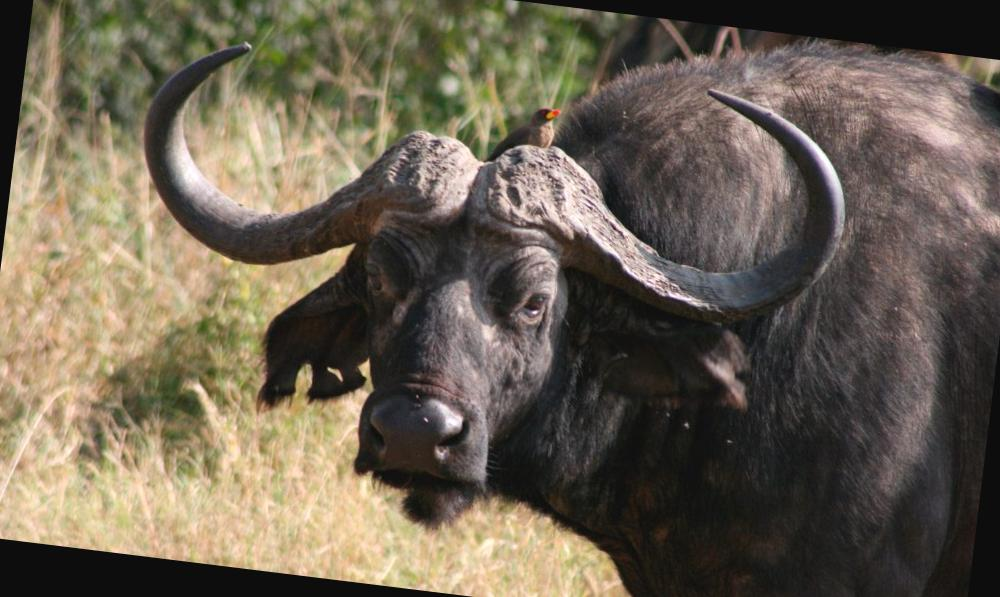Buffalo: (48, 0, 1000, 597)
